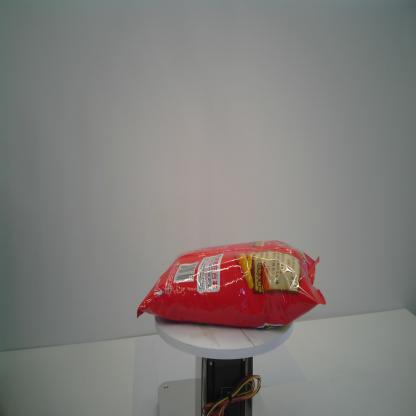Puffed Food: (135, 240, 328, 332)
